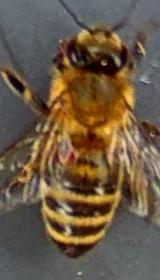varroa_mite: (50, 142, 78, 170)
